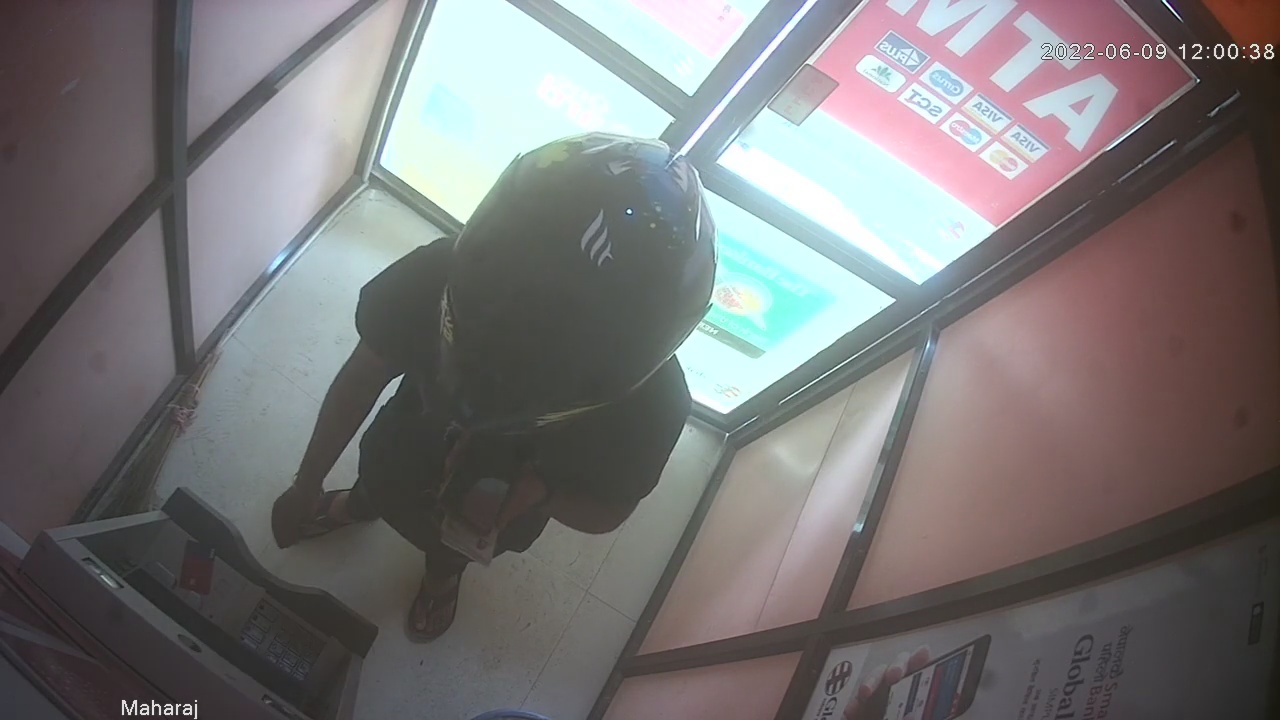helmet: (434, 131, 716, 438)
person: (270, 131, 717, 642)
